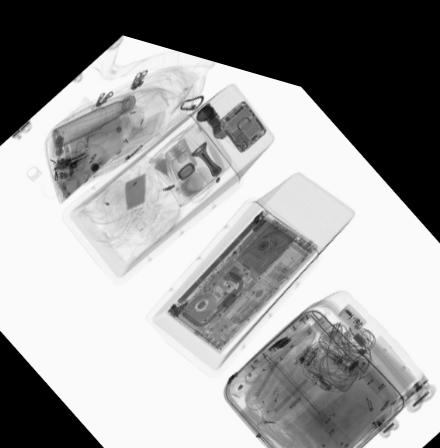Lighter: (265, 369, 281, 396)
